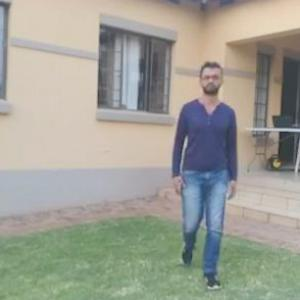follow: (167, 52, 239, 292)
